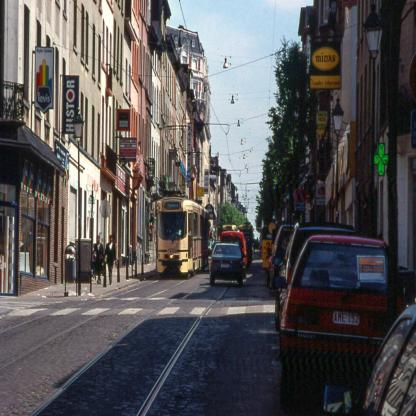Car: (274, 232, 404, 410), (278, 219, 356, 319), (359, 304, 416, 416), (271, 221, 294, 289), (209, 245, 244, 286)
